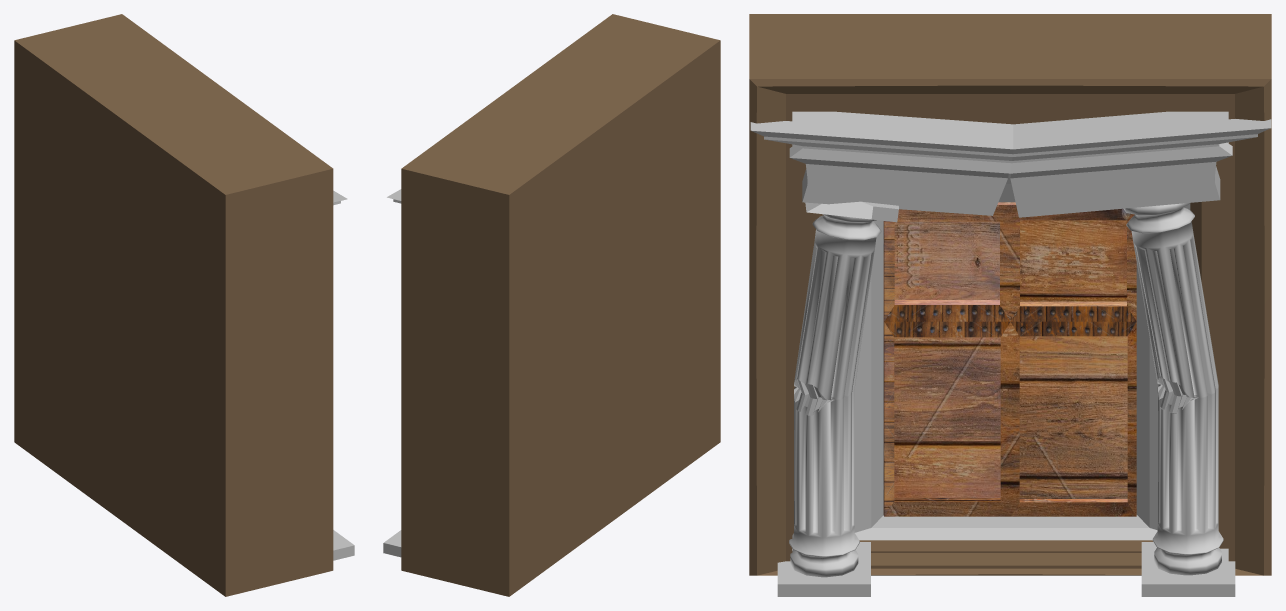
The model's file is kapı.fbx.
3 renders of one model, left to right at view 1: azimuth 30°, elevation 25°; view 2: azimuth 150°, elevation 25°; view 3: azimuth 270°, elevation 25°, orthographic. The views are drawn at different scales.
Visible parts, largest first — view 1: Cube, Plane.002; view 2: Cube; view 3: Cube, Cube.001, Cube.003, Plane.003, Plane.007, Cube.002, Plane.005, Plane.002, Plane.000, Plane.001, Plane.004.
Part boxes in pixels (left/top/right/bottom): Cube: left=14, top=14, right=333, bottom=596; Plane.002: left=333, top=530, right=354, bottom=560; Cube: left=401, top=14, right=720, bottom=596; Cube: left=749, top=14, right=1271, bottom=575; Cube.001: left=883, top=202, right=1136, bottom=516; Cube.003: left=750, top=111, right=1271, bottom=217; Plane.003: left=1123, top=203, right=1223, bottom=575; Plane.007: left=789, top=214, right=881, bottom=577; Cube.002: left=854, top=175, right=1190, bottom=540; Plane.005: left=1141, top=542, right=1235, bottom=596; Plane.002: left=777, top=542, right=870, bottom=596; Plane.000: left=805, top=201, right=898, bottom=222; Plane.001: left=794, top=379, right=830, bottom=415; Plane.004: left=1158, top=377, right=1193, bottom=413.
Bounding box in the file's own units: 474 × 1299 × 1234.
